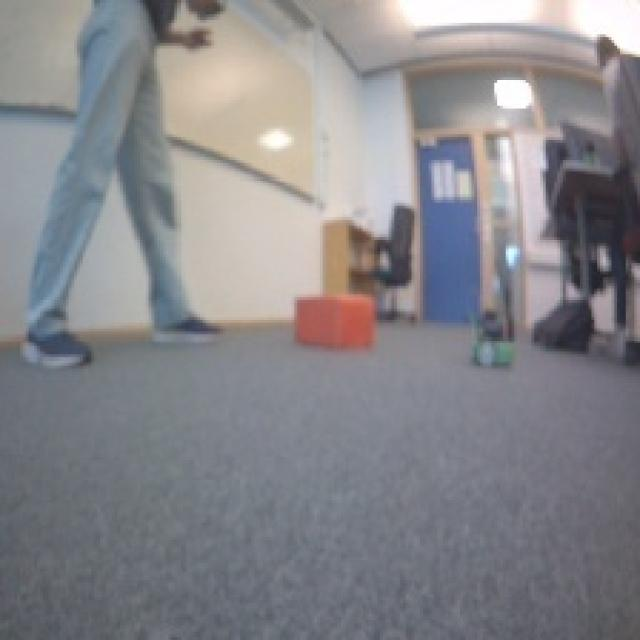robot: (469, 332, 514, 368)
target: (292, 288, 377, 348)
